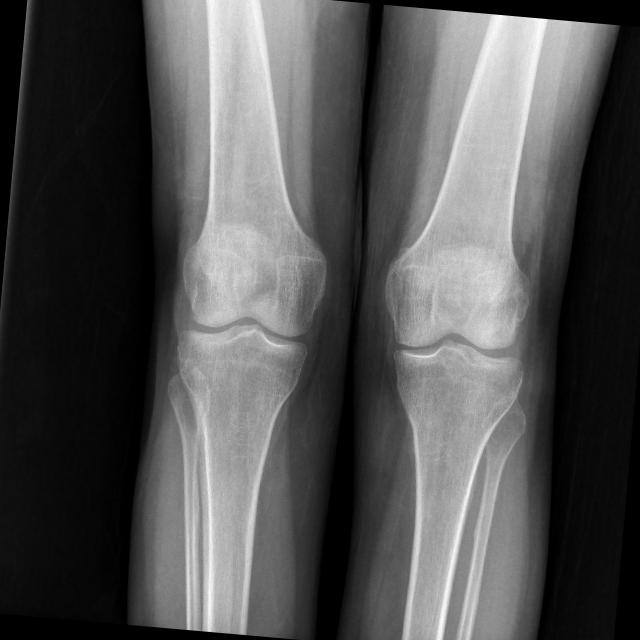Knee: (165, 248, 333, 406), (371, 268, 535, 426)
